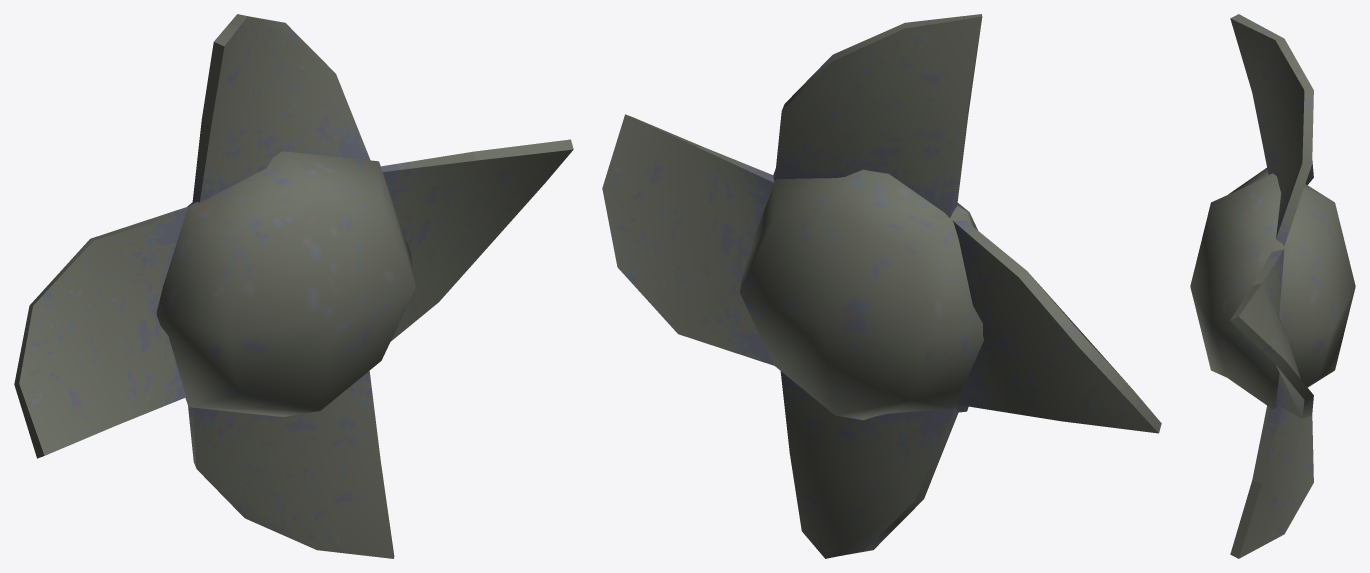
The model's file is PropellerBlades.obj.
3 renders of one model, left to right at view 1: azimuth 30°, elevation 25°; view 2: azimuth 150°, elevation 25°; view 3: azimuth 270°, elevation 25°, orthographic. The views are drawn at different scales.
Visible parts, largest first — view 1: PropellerBlades2; view 2: PropellerBlades2; view 3: PropellerBlades2.
Boxes of the visible parts, x1,y1,x2,y2 form: PropellerBlades2: (14,14,573,558); PropellerBlades2: (602,14,1161,558); PropellerBlades2: (1190,14,1355,558).
Bounding box in the file's own units: 7.5 × 7.5 × 2.39.
Materials: 1 (1 with a texture image).
